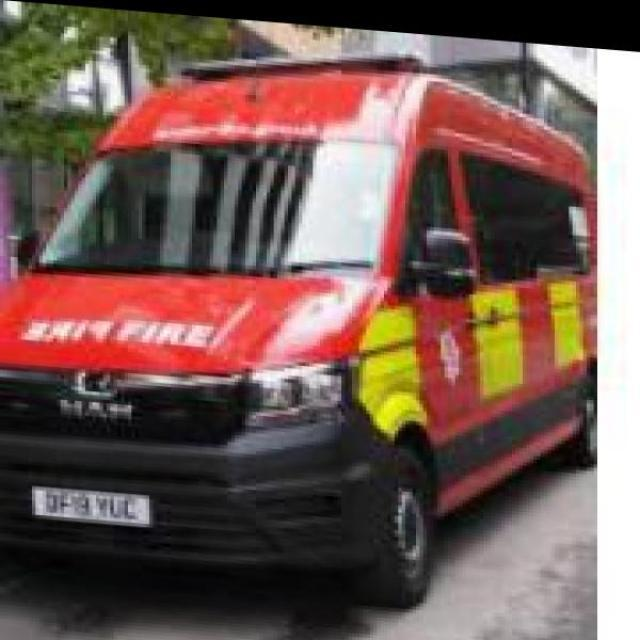emergency: (0, 52, 598, 608)
